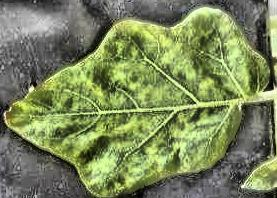HEALTHY: (1, 0, 277, 198)
